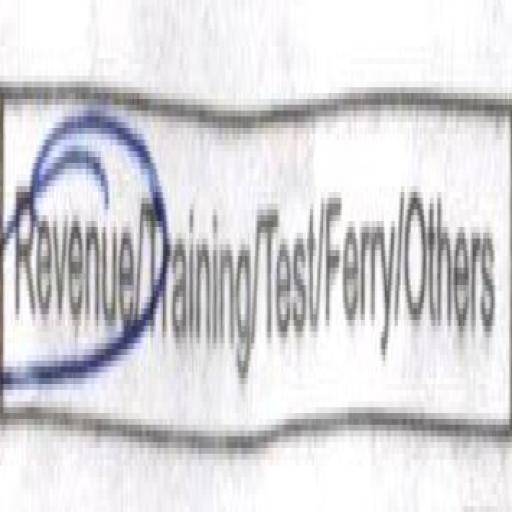check: (0, 78, 146, 430)
